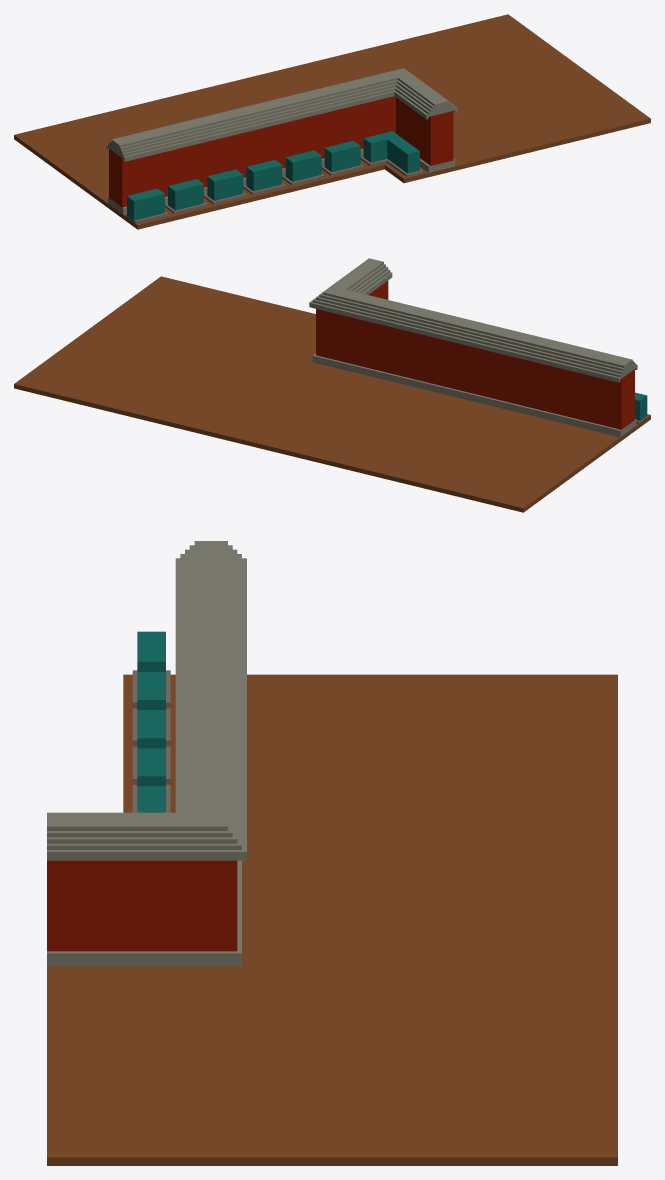
The model's file is Map-16.obj.
3 renders of one model, top to bottom at view 1: azimuth 30°, elevation 25°; view 2: azimuth 150°, elevation 25°; view 3: azimuth 270°, elevation 25°, orthographic. The views are drawn at different scales.
Size of the model in its own units: 24 by 3.3 by 12.
Materials: 1 (1 with a texture image).
